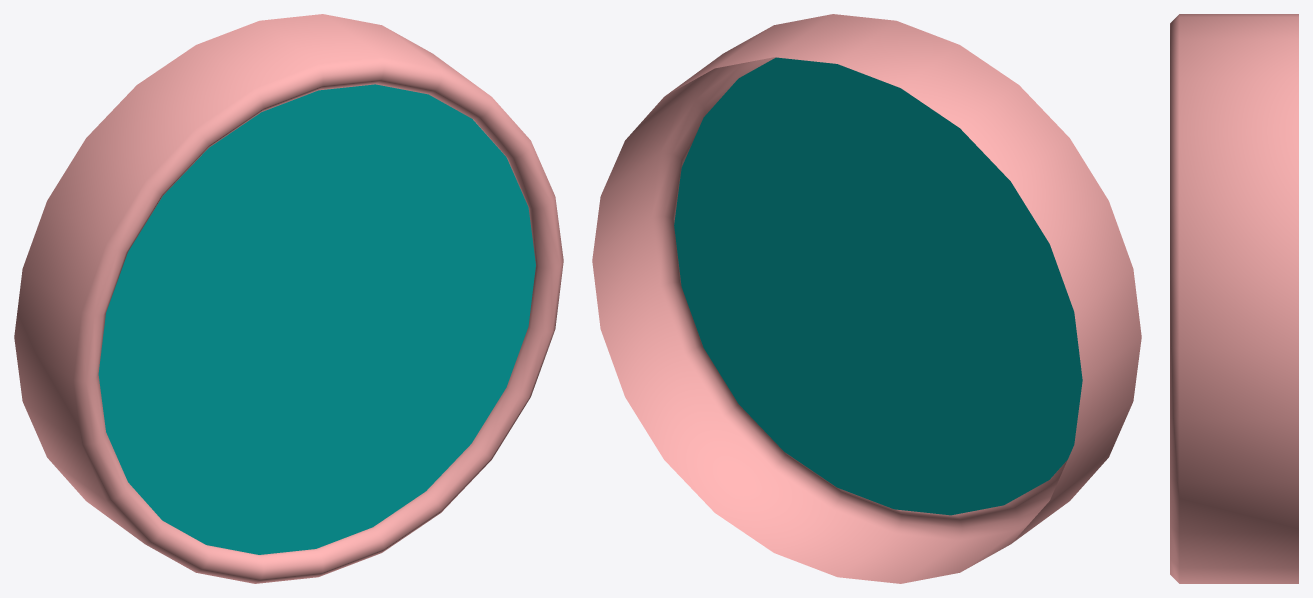
The model's file is port.fbx.
3 views of the same model, side by side, from view 1: azimuth 30°, elevation 25°; view 2: azimuth 150°, elevation 25°; view 3: azimuth 270°, elevation 25° (orthographic).
Visible parts, largest first — view 1: Port1; view 2: Port1; view 3: Port1.
Part boxes in pixels (x1,y1,x2,y2): Port1: (14, 14, 563, 583); Port1: (592, 14, 1141, 583); Port1: (1170, 14, 1298, 583).
Size of the model in its own units: 40 by 40 by 9.
